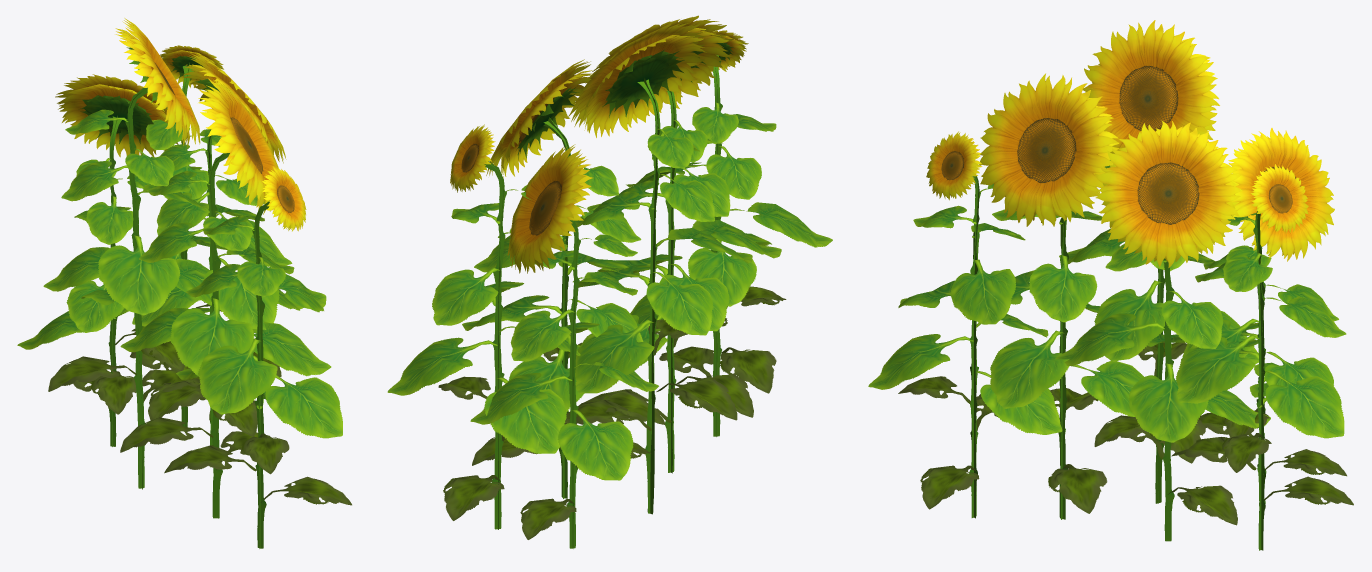
File: Sunflowers (2).fbx
3 renders of one model, left to right at view 1: azimuth 30°, elevation 25°; view 2: azimuth 150°, elevation 25°; view 3: azimuth 270°, elevation 25°, orthographic. The views are drawn at different scales.
Parts seen in each view (by area): view 1: Sunfl1_low.003; view 2: Sunfl1_low.003; view 3: Sunfl1_low.003.
Part boxes in pixels (bbox=[...]): Sunfl1_low.003: bbox=[17, 18, 351, 548]; Sunfl1_low.003: bbox=[387, 15, 832, 548]; Sunfl1_low.003: bbox=[868, 20, 1353, 550].
Bounding box in the file's own units: 254 × 441 × 404.
